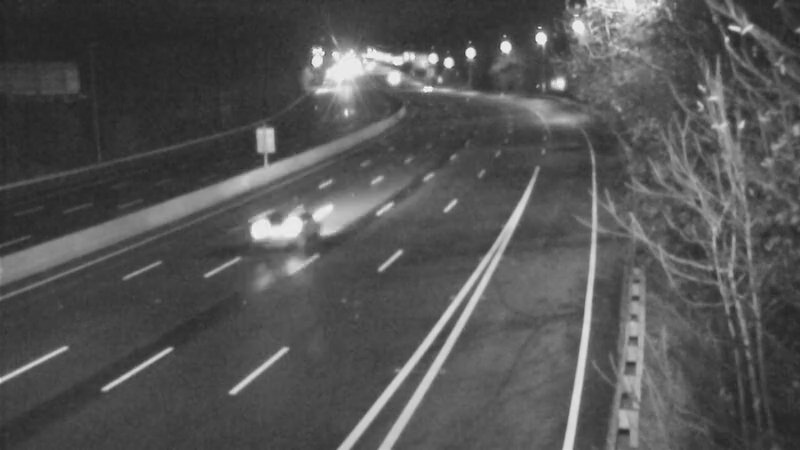vehicle: (239, 185, 319, 265), (363, 52, 413, 102), (403, 63, 453, 113)
